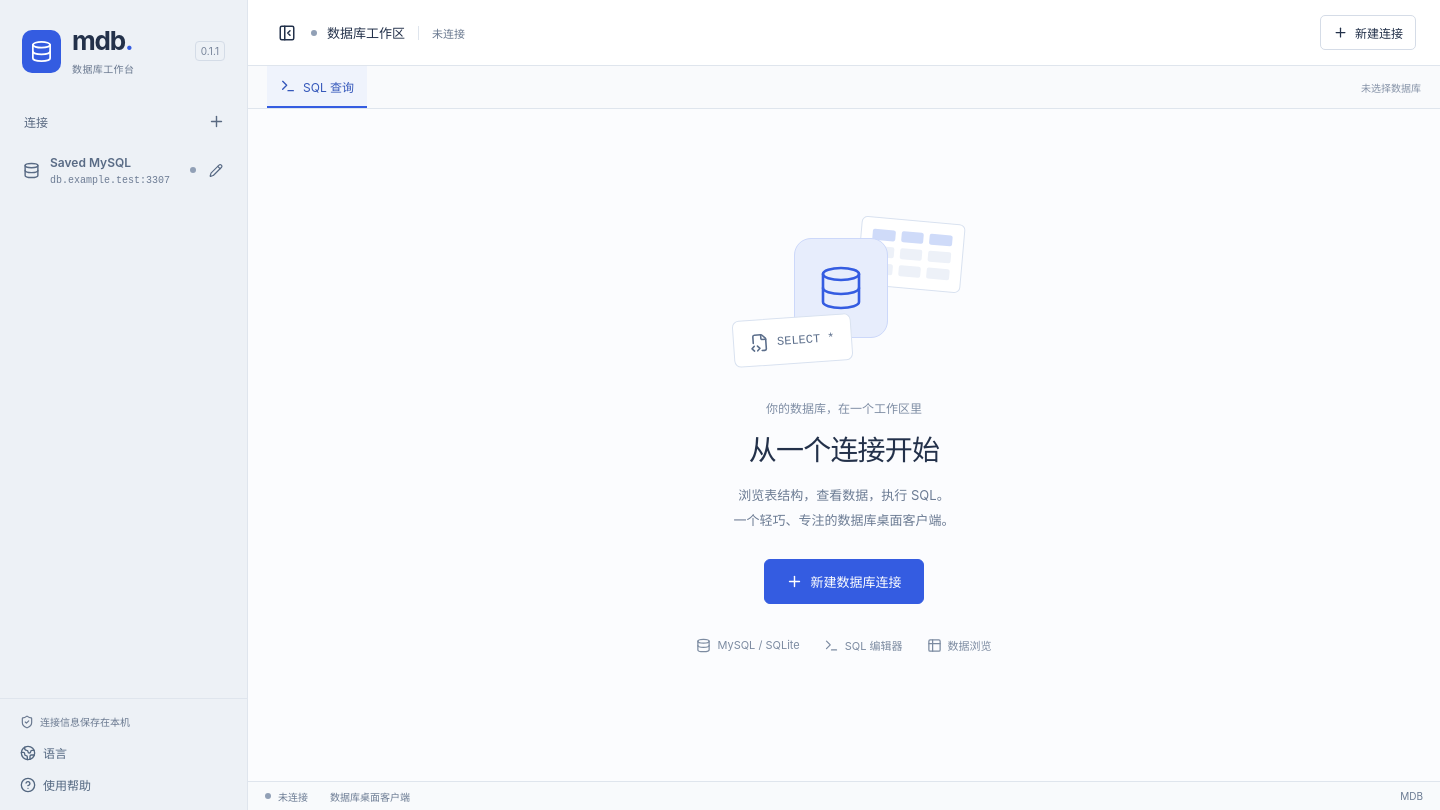
it: loads the saved password for editing, persists changes, and removes it on deletion
Click the button named "编辑连接 Saved MySQL". click: (216, 170)
box: [201,156,230,185]
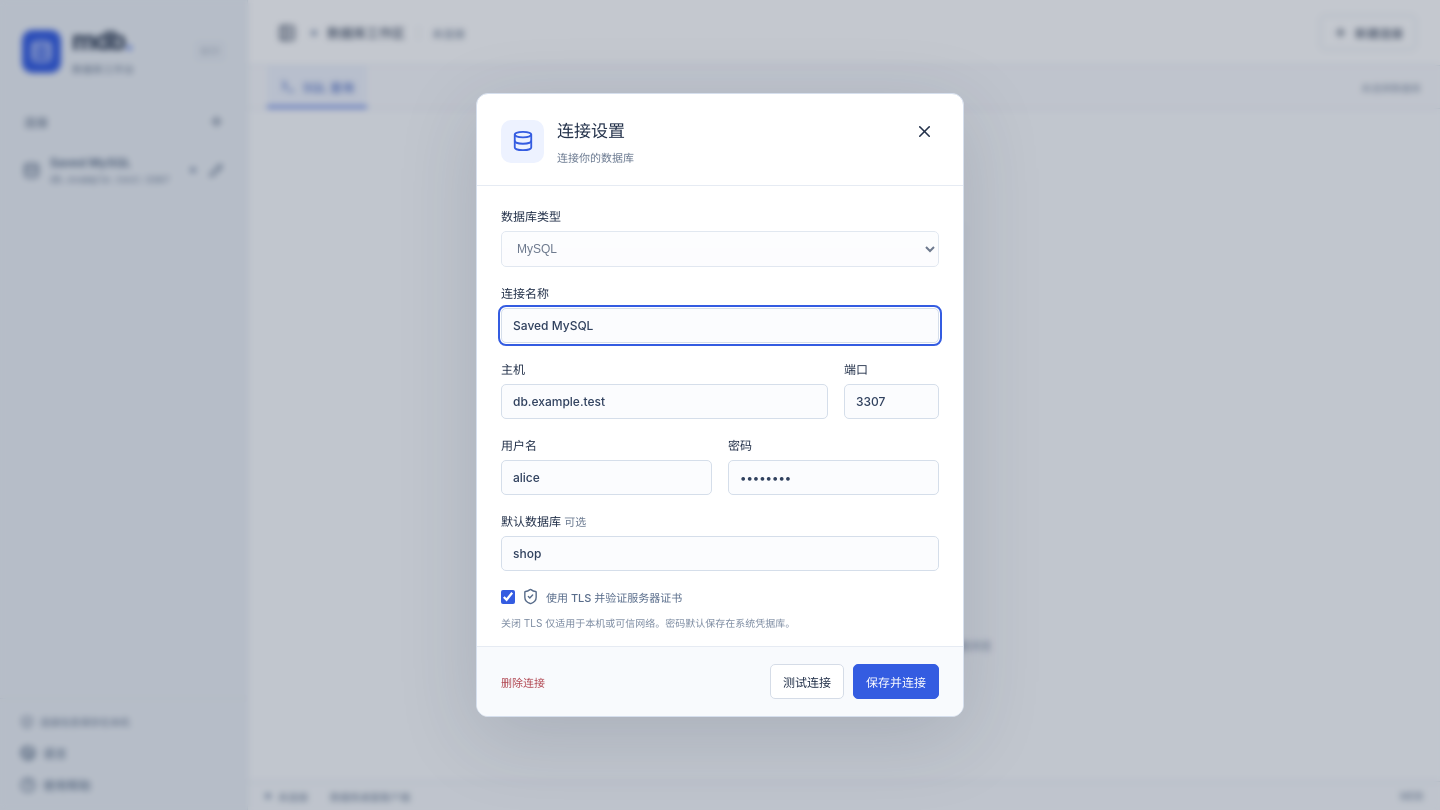
Now the password field labelled "密码" holds "a@b:/?#%"
Type "updated-test-password" into the password field labelled "密码". click: (834, 478)
box: [728,460,939,495]
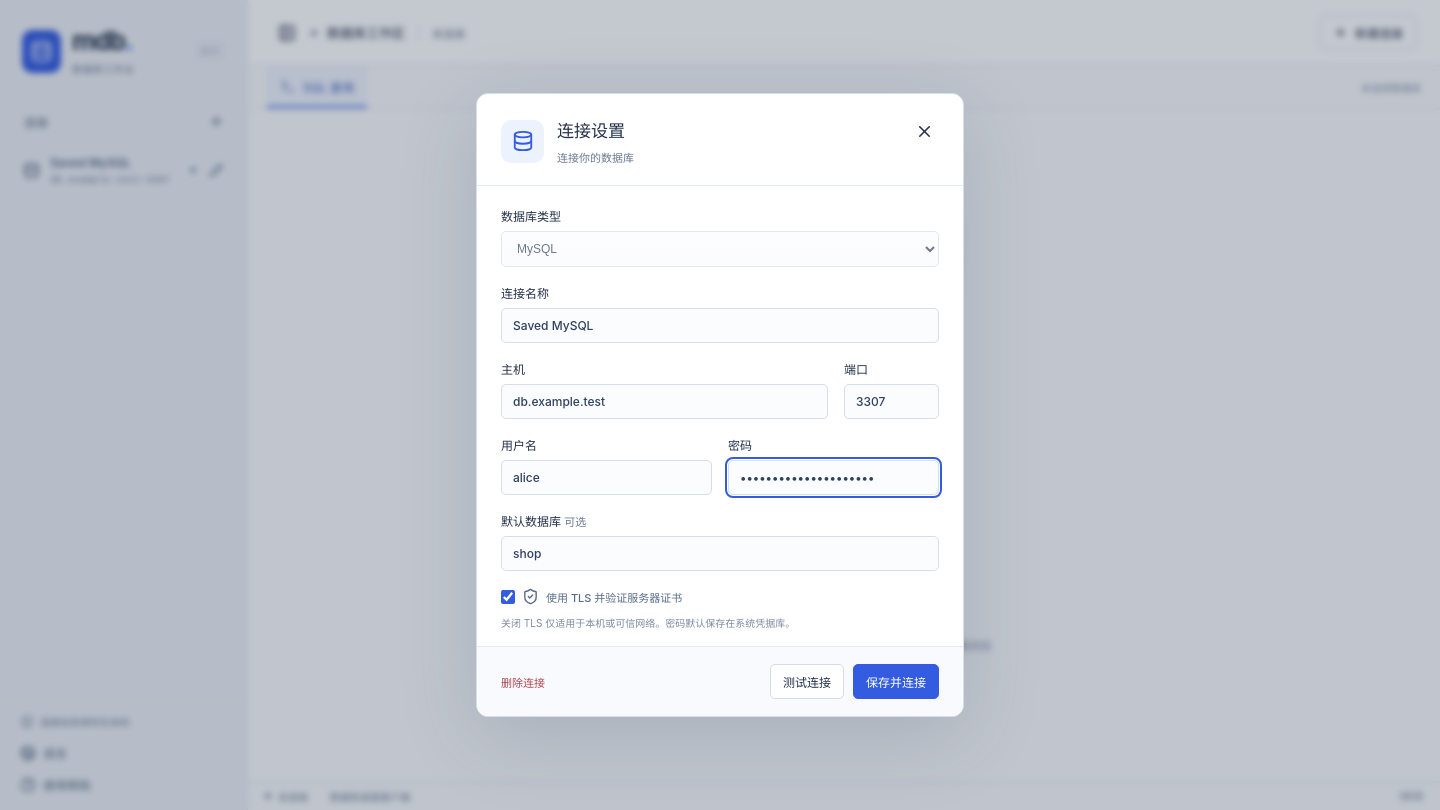
Click the button "保存并连接". click: (896, 682)
box: [853,664,939,699]
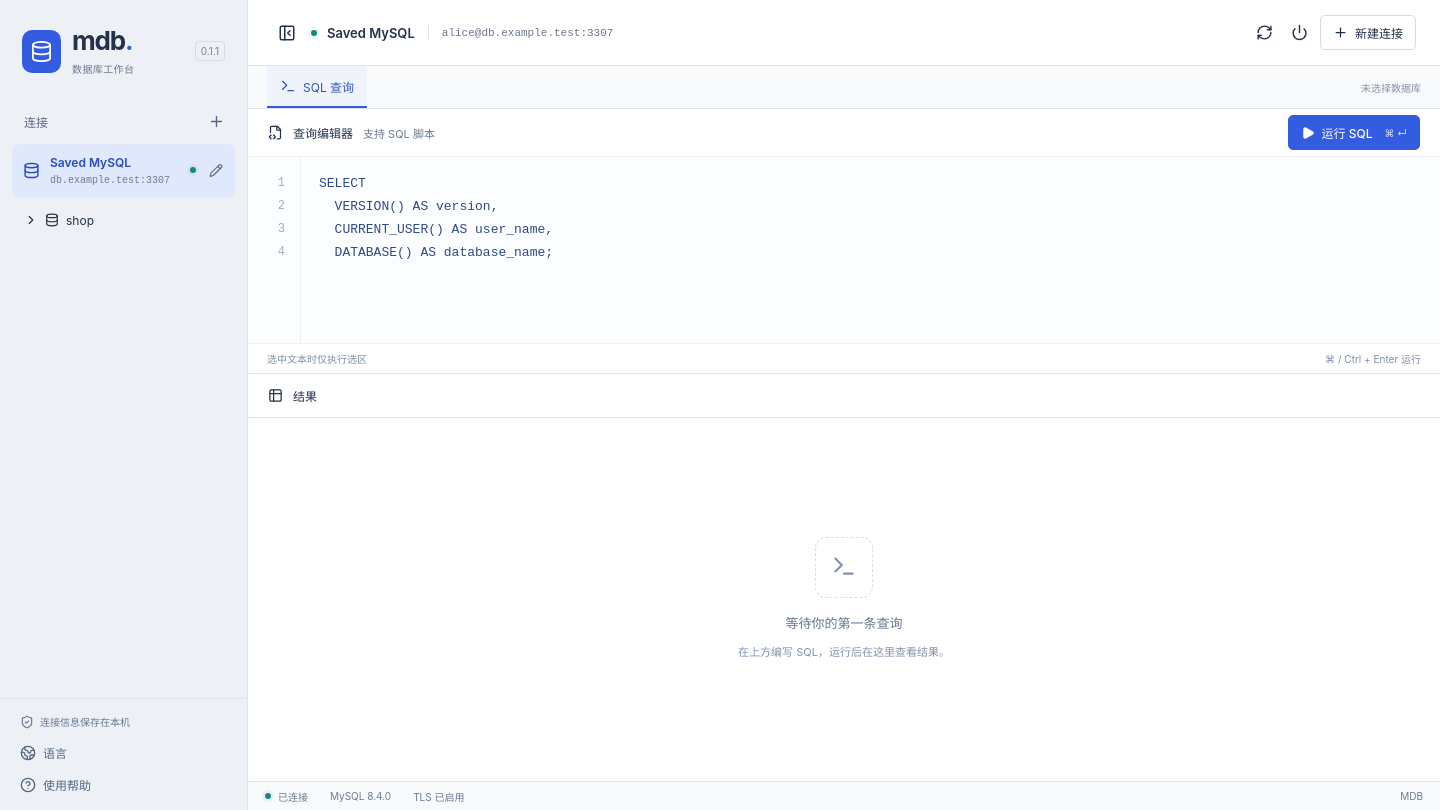
Now the button "shop" is shown, box [17,205,235,236]
Click the button named "断开连接". click: (1300, 32)
box: [1285,18,1314,47]
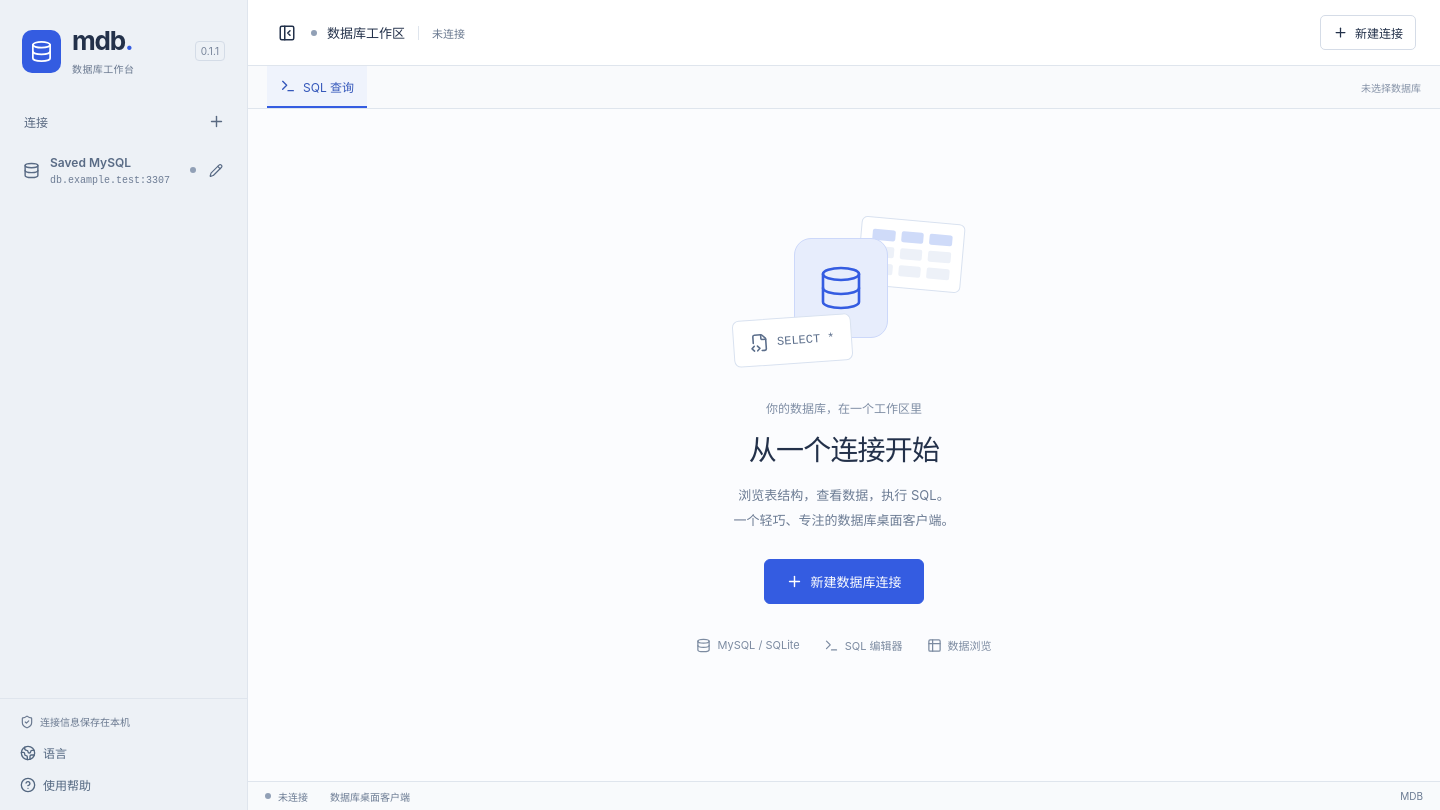
Click the button named "编辑连接 Saved MySQL". click: (216, 170)
box: [201,156,230,185]
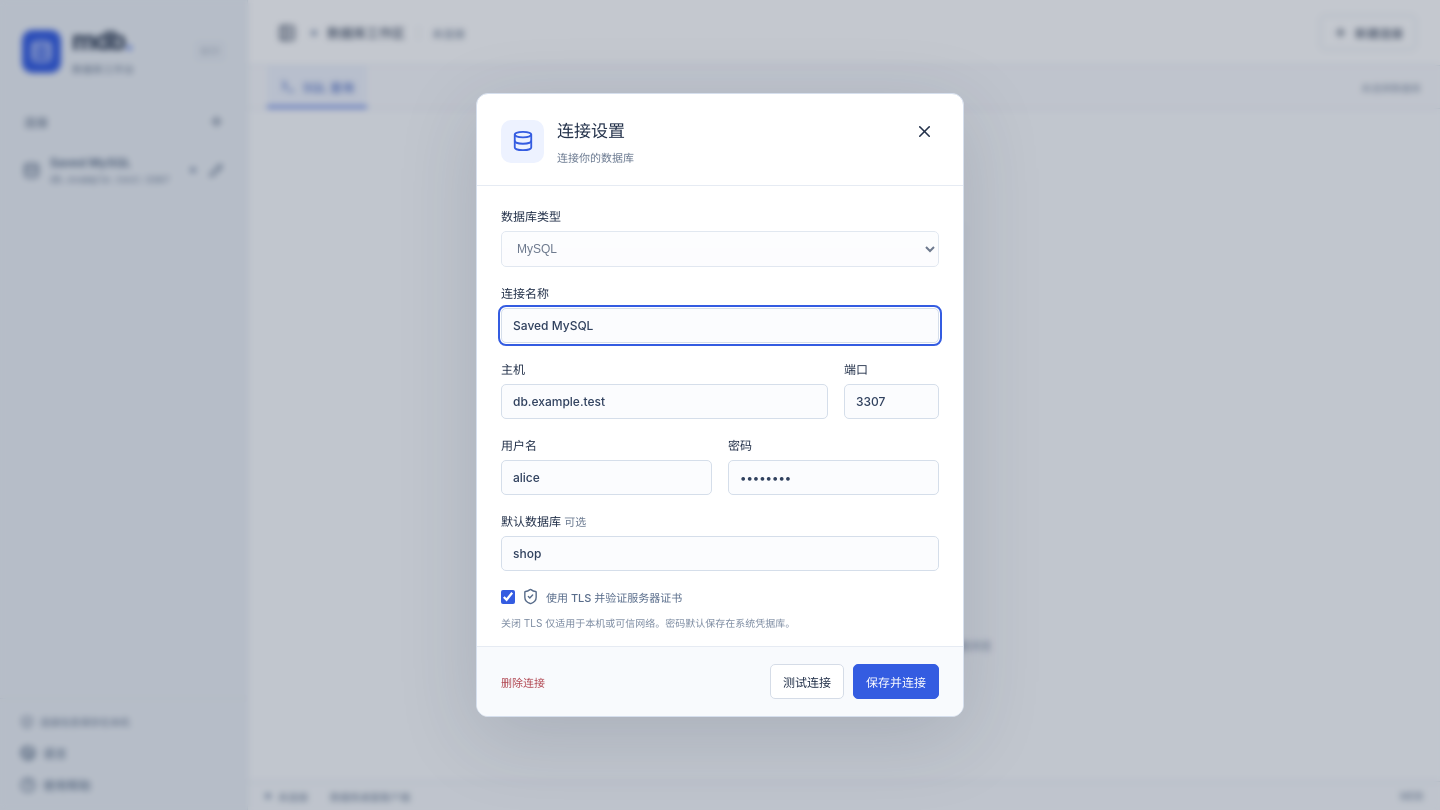
Now the dialog is shown, box [476,93,964,717]
Click the button "删除连接". click: (523, 682)
box: [501,668,545,696]
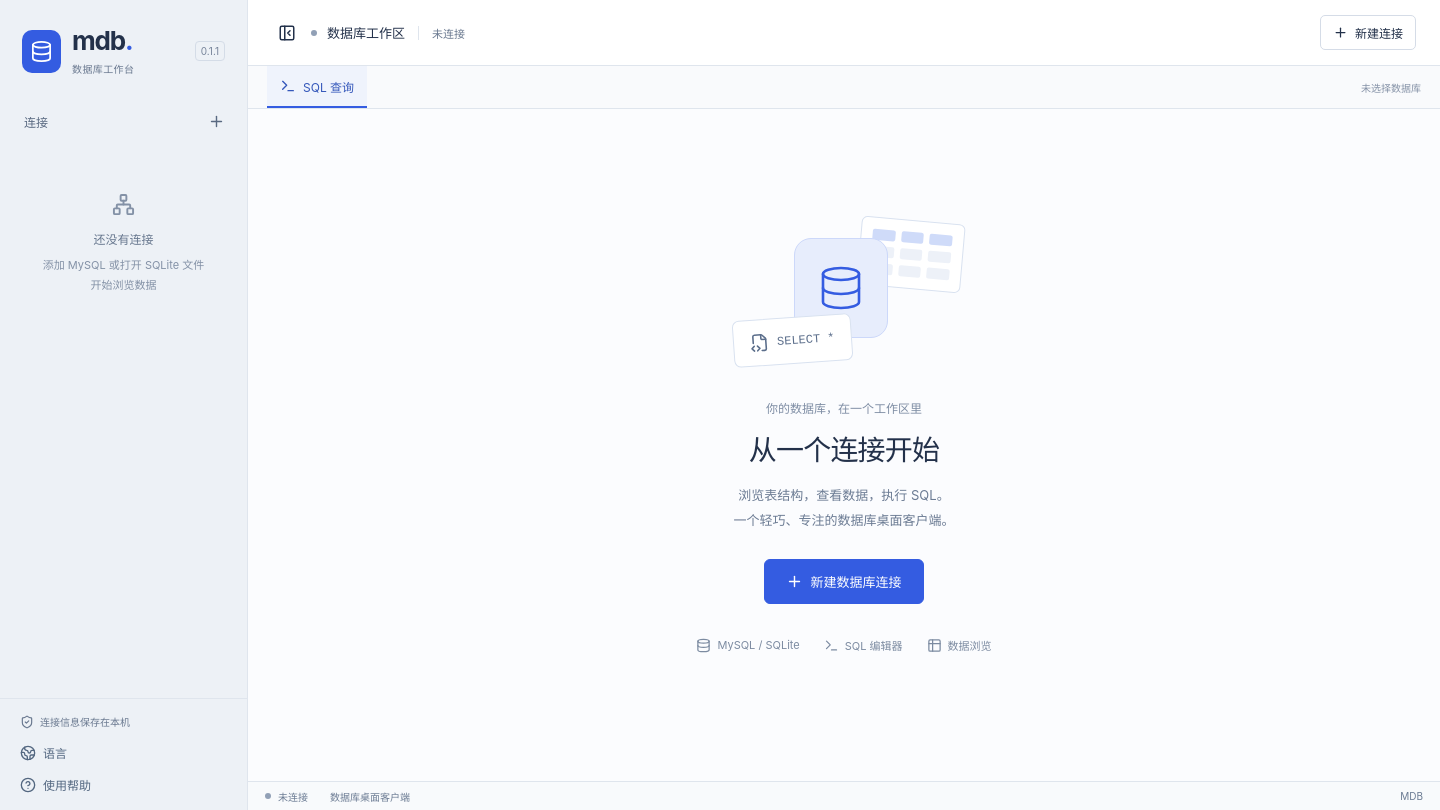
Now the dialog is gone
